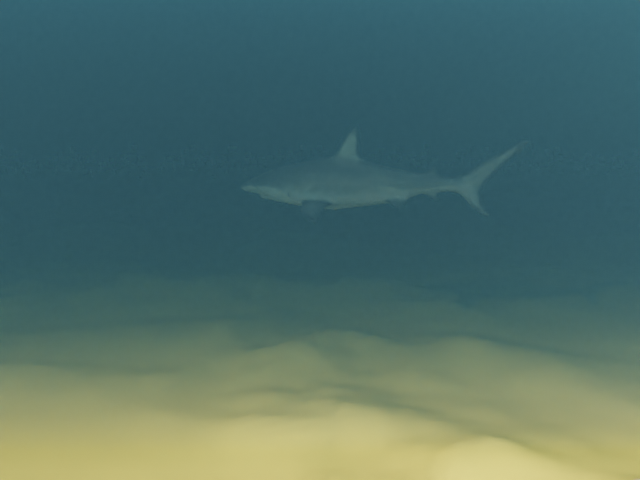Carribean Shark.001: (240, 127, 528, 222)
